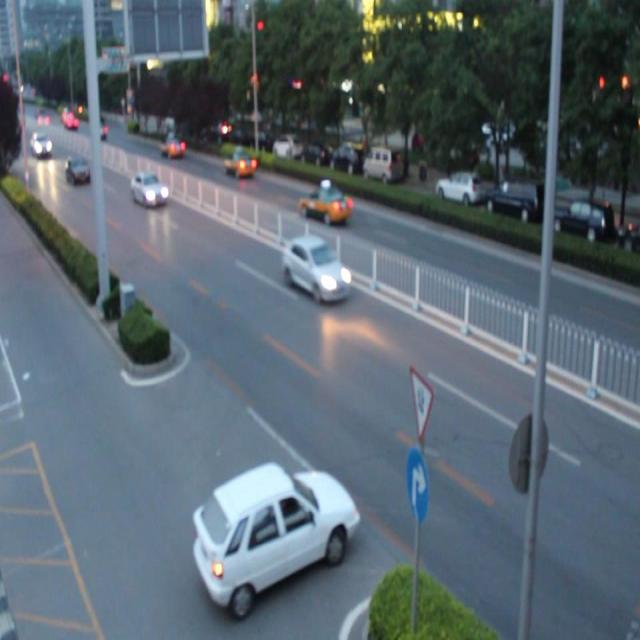car: (191, 464, 359, 606), (283, 238, 350, 302), (299, 187, 352, 223), (130, 169, 167, 207), (224, 151, 258, 180), (160, 132, 186, 161)
